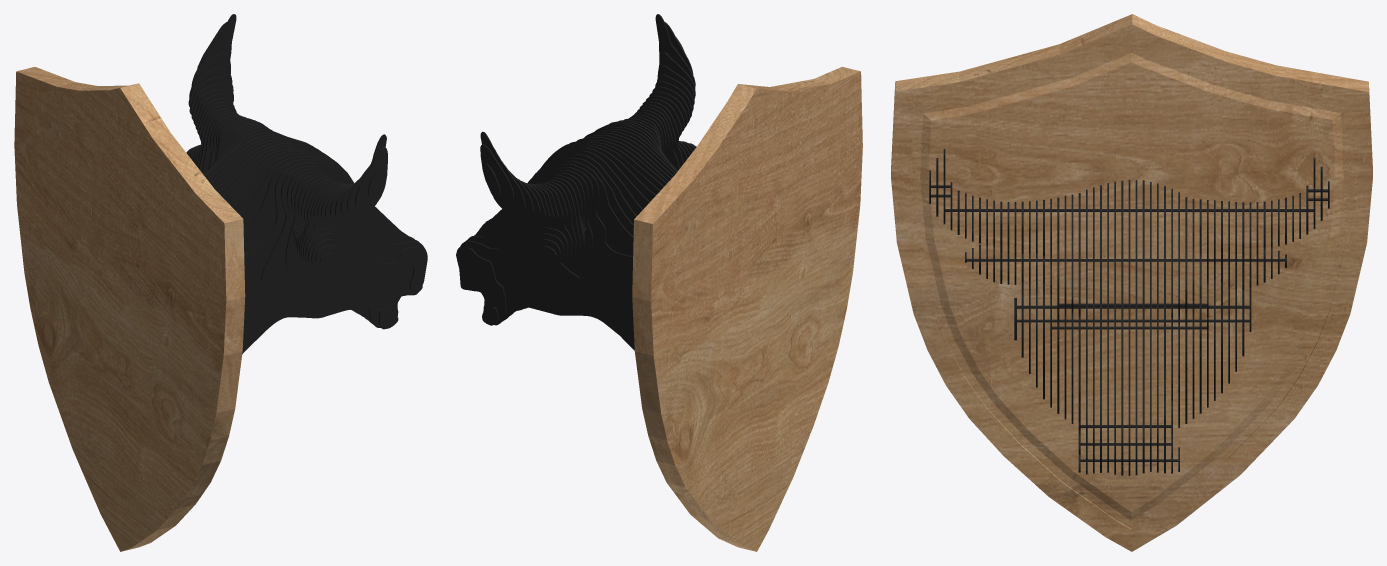
File: BullSheild.glb
The picture shows the model from 3 angles, left to right: view 1: azimuth 30°, elevation 25°; view 2: azimuth 150°, elevation 25°; view 3: azimuth 270°, elevation 25°; orthographic projection. The views are drawn at different scales.
Parts seen in each view (by area): view 1: Object_4, Object_2; view 2: Object_4, Object_2; view 3: Object_4, Object_2.
Boxes of the visible parts, x1,y1,x2,y2 form: Object_4: (14,67,245,551); Object_2: (186,14,427,353); Object_4: (632,66,862,551); Object_2: (456,14,696,350); Object_4: (891,14,1372,551); Object_2: (929,149,1329,475).
Size of the model in its own units: 0.9278 by 1.4 by 1.16.
Materials: 2 (1 with a texture image).
